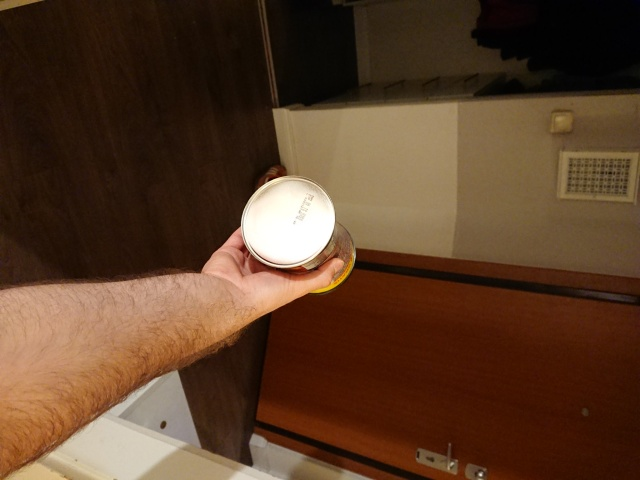Nescafe Classic 225g: (237, 172, 359, 298)
